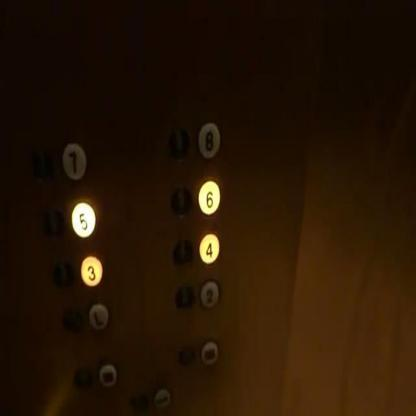2: (198, 278, 220, 311)
3: (77, 254, 104, 289)
4: (197, 231, 219, 266)
5: (70, 199, 96, 240)
6: (197, 178, 221, 215)
7: (59, 140, 87, 182)
8: (195, 118, 221, 160)
L: (85, 300, 112, 332)
blur: (96, 360, 116, 391), (199, 337, 218, 368), (152, 383, 171, 413)
